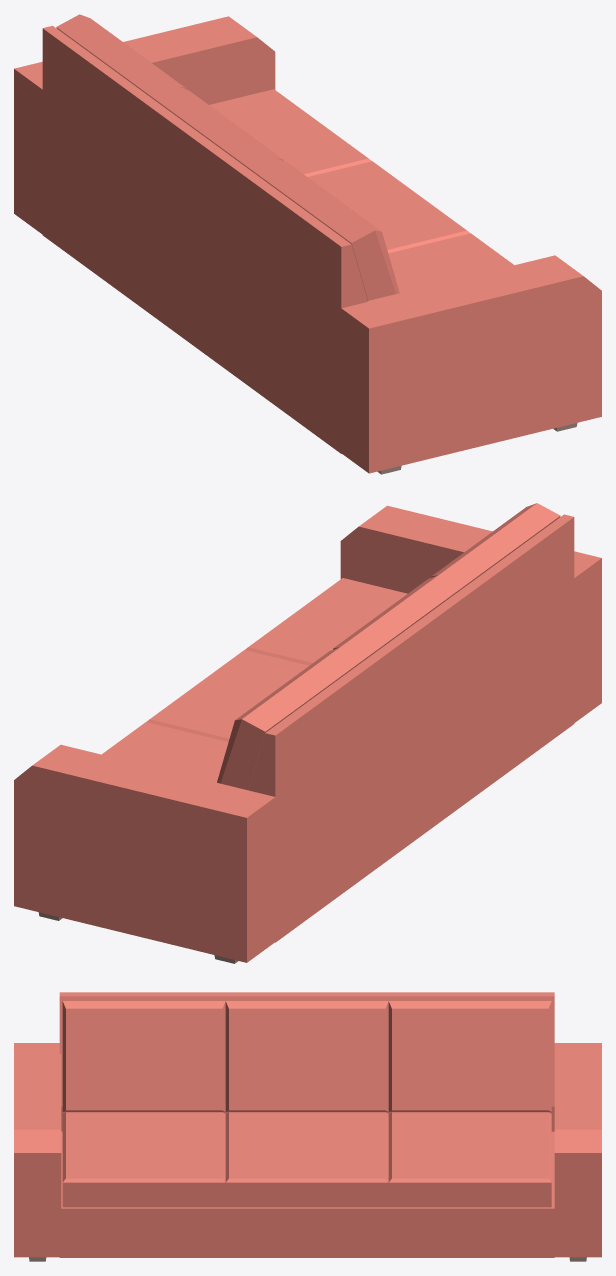
The model's file is Simple Sofa.fbx.
3 views of the same model, one above another, from view 1: azimuth 30°, elevation 25°; view 2: azimuth 150°, elevation 25°; view 3: azimuth 270°, elevation 25° (orthographic). The views are drawn at different scales.
Visible parts, largest first — view 1: couch_Cube.029; view 2: couch_Cube.029; view 3: couch_Cube.029.
Part boxes in pixels (<box>): couch_Cube.029: <box>14,14,601,474</box>; couch_Cube.029: <box>14,503,601,963</box>; couch_Cube.029: <box>14,992,601,1261</box>.
Bounding box in the file's own units: 1052 × 976 × 2779.
